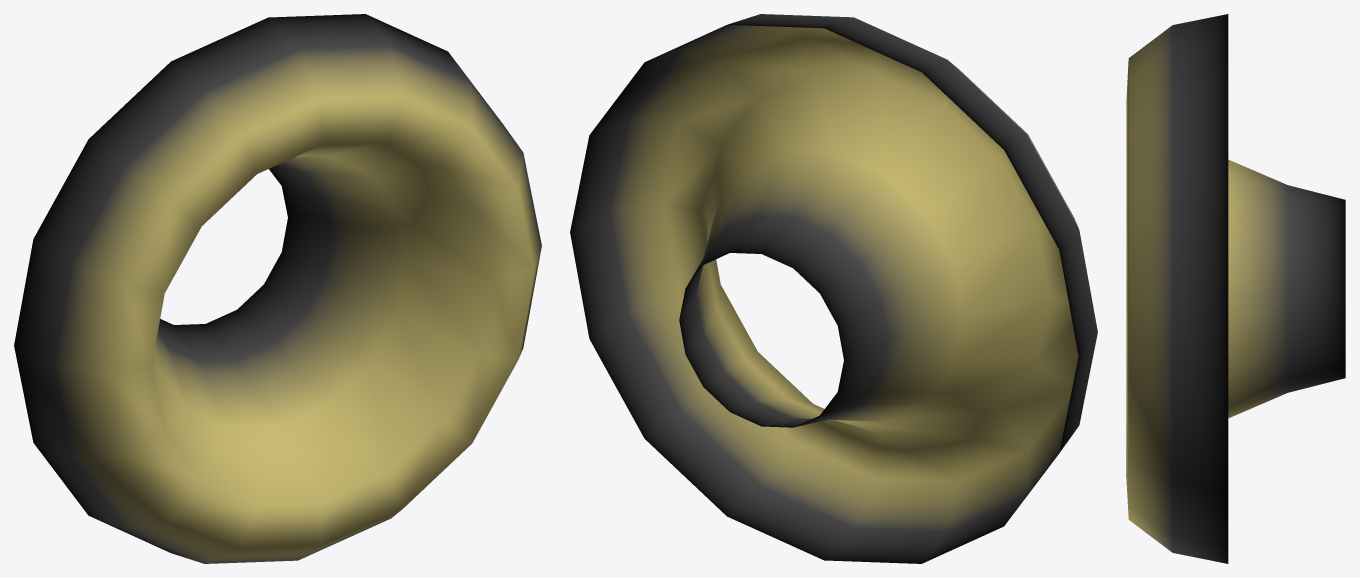
The model's file is SonicWave.fbx.
3 renders of one model, left to right at view 1: azimuth 30°, elevation 25°; view 2: azimuth 150°, elevation 25°; view 3: azimuth 270°, elevation 25°, orthographic. The views are drawn at different scales.
Visible parts, largest first — view 1: pTorus1; view 2: pTorus1; view 3: pTorus1.
Boxes of the visible parts, <box> form: pTorus1: <box>14,14,541,563</box>; pTorus1: <box>570,14,1097,563</box>; pTorus1: <box>1126,14,1345,563</box>.
Size of the model in its own units: 26.91 by 26.91 by 10.73.
